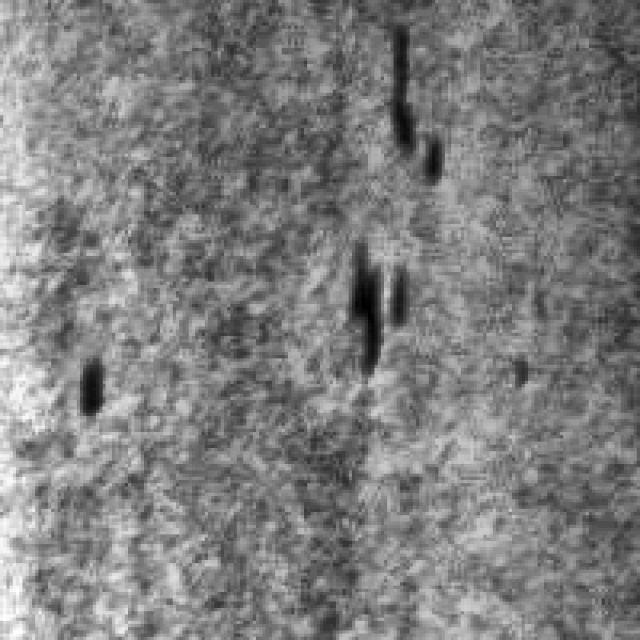Patches: (374, 16, 444, 189), (336, 230, 409, 374), (67, 340, 106, 422)
